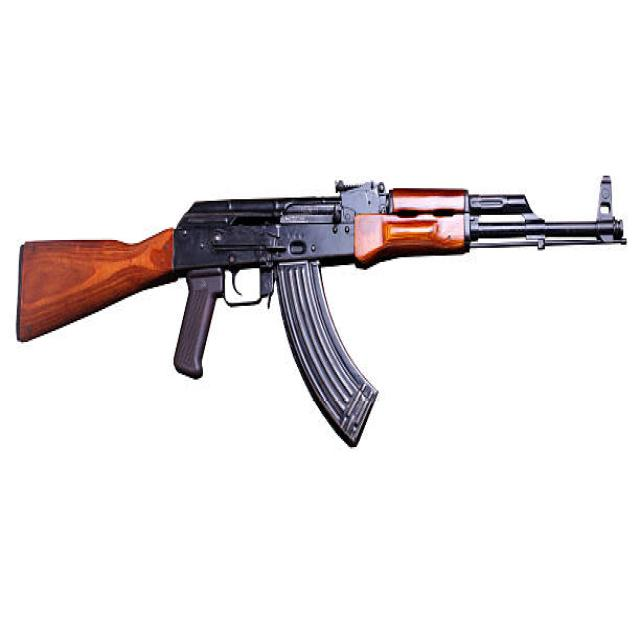rifle: (13, 166, 630, 456)
